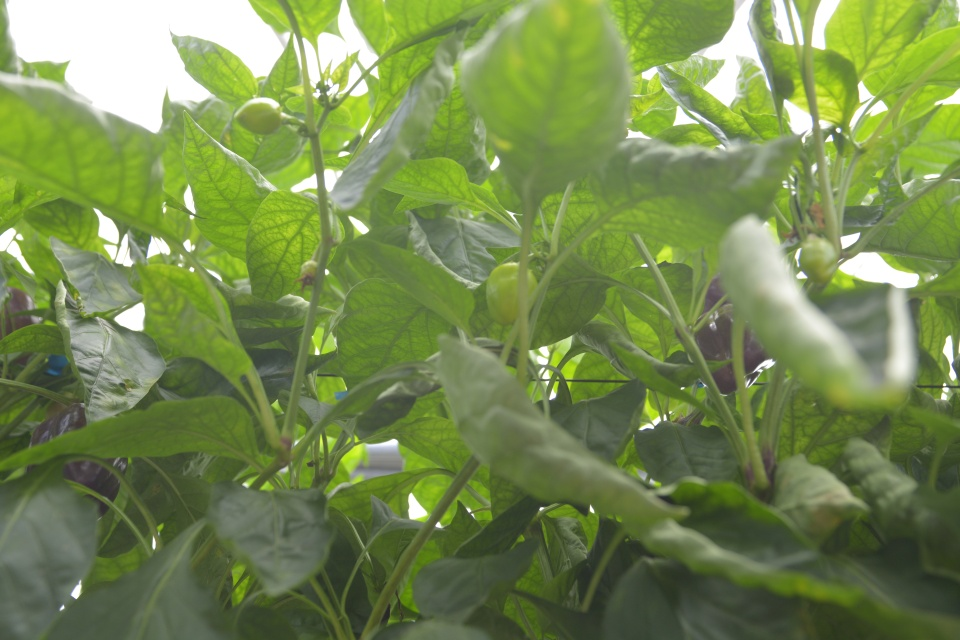fruit: (23, 401, 129, 523), (692, 302, 771, 397), (0, 287, 44, 366), (699, 273, 736, 317)
immature: (483, 257, 538, 326), (230, 94, 283, 137), (797, 235, 840, 286)
